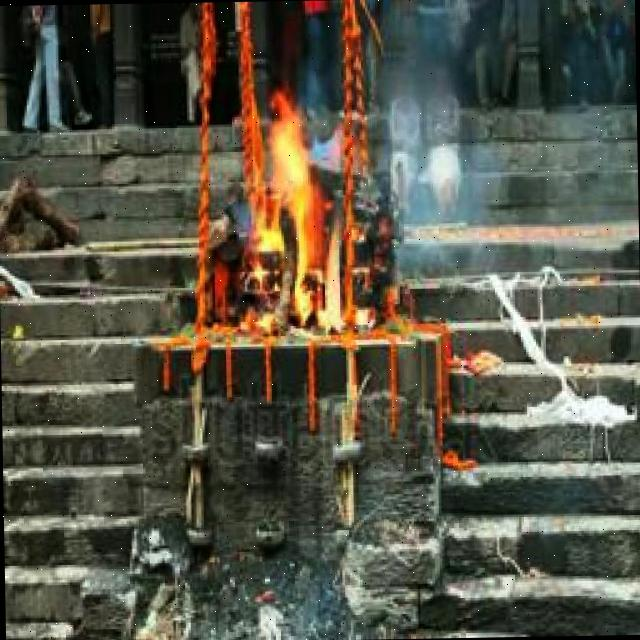fire: (244, 96, 349, 334)
